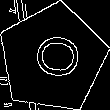O_W: (24, 33, 81, 83)
